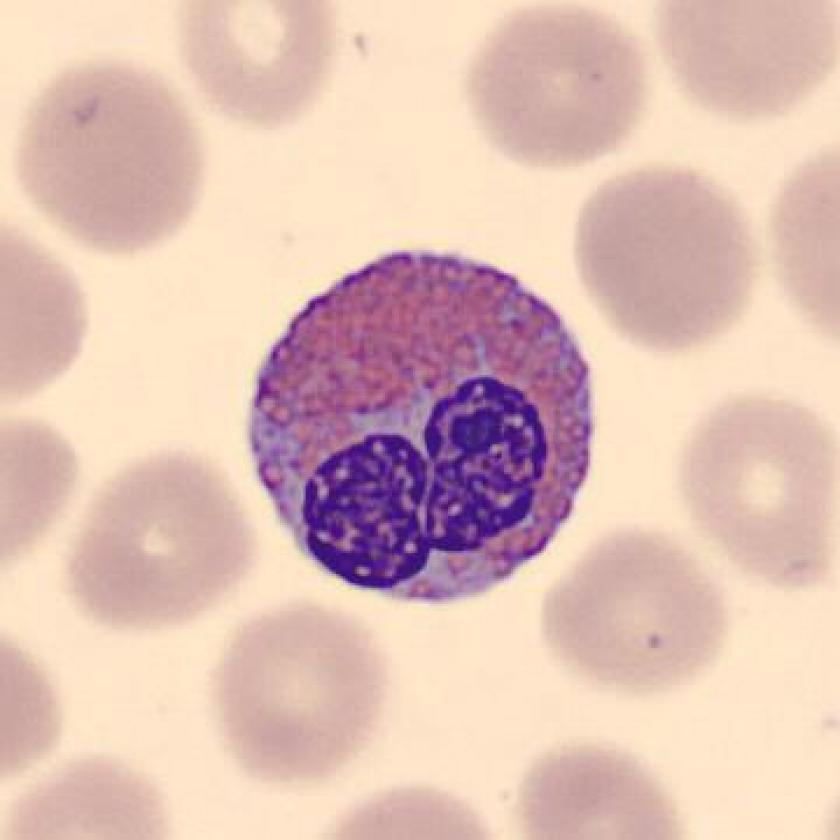eosinophil: (234, 235, 615, 621)
